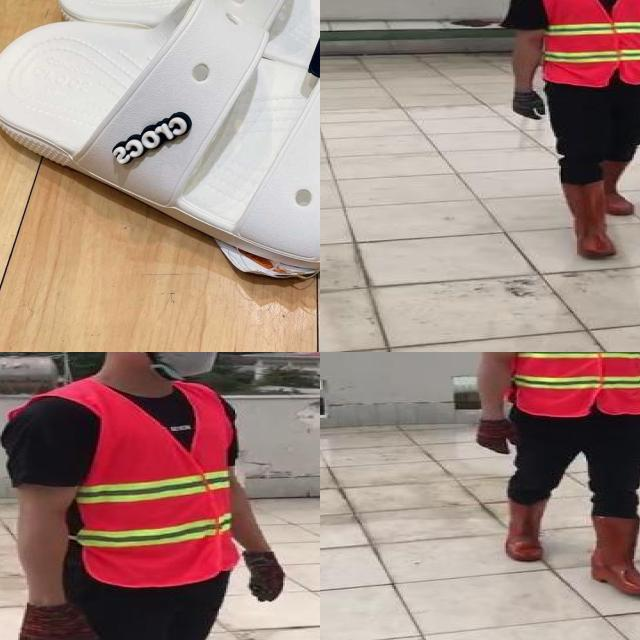Sandals: (0, 0, 320, 303)
boots: (559, 182, 620, 261), (586, 515, 640, 596), (502, 494, 547, 563), (598, 157, 636, 216)
face_mask: (152, 352, 230, 376)
hand_glove: (16, 602, 98, 640), (242, 550, 287, 603), (476, 420, 526, 456), (512, 92, 550, 121)
person: (0, 352, 285, 640), (465, 352, 640, 605), (496, 0, 640, 269)
vest: (68, 383, 238, 587), (538, 0, 640, 87), (506, 352, 640, 416)
